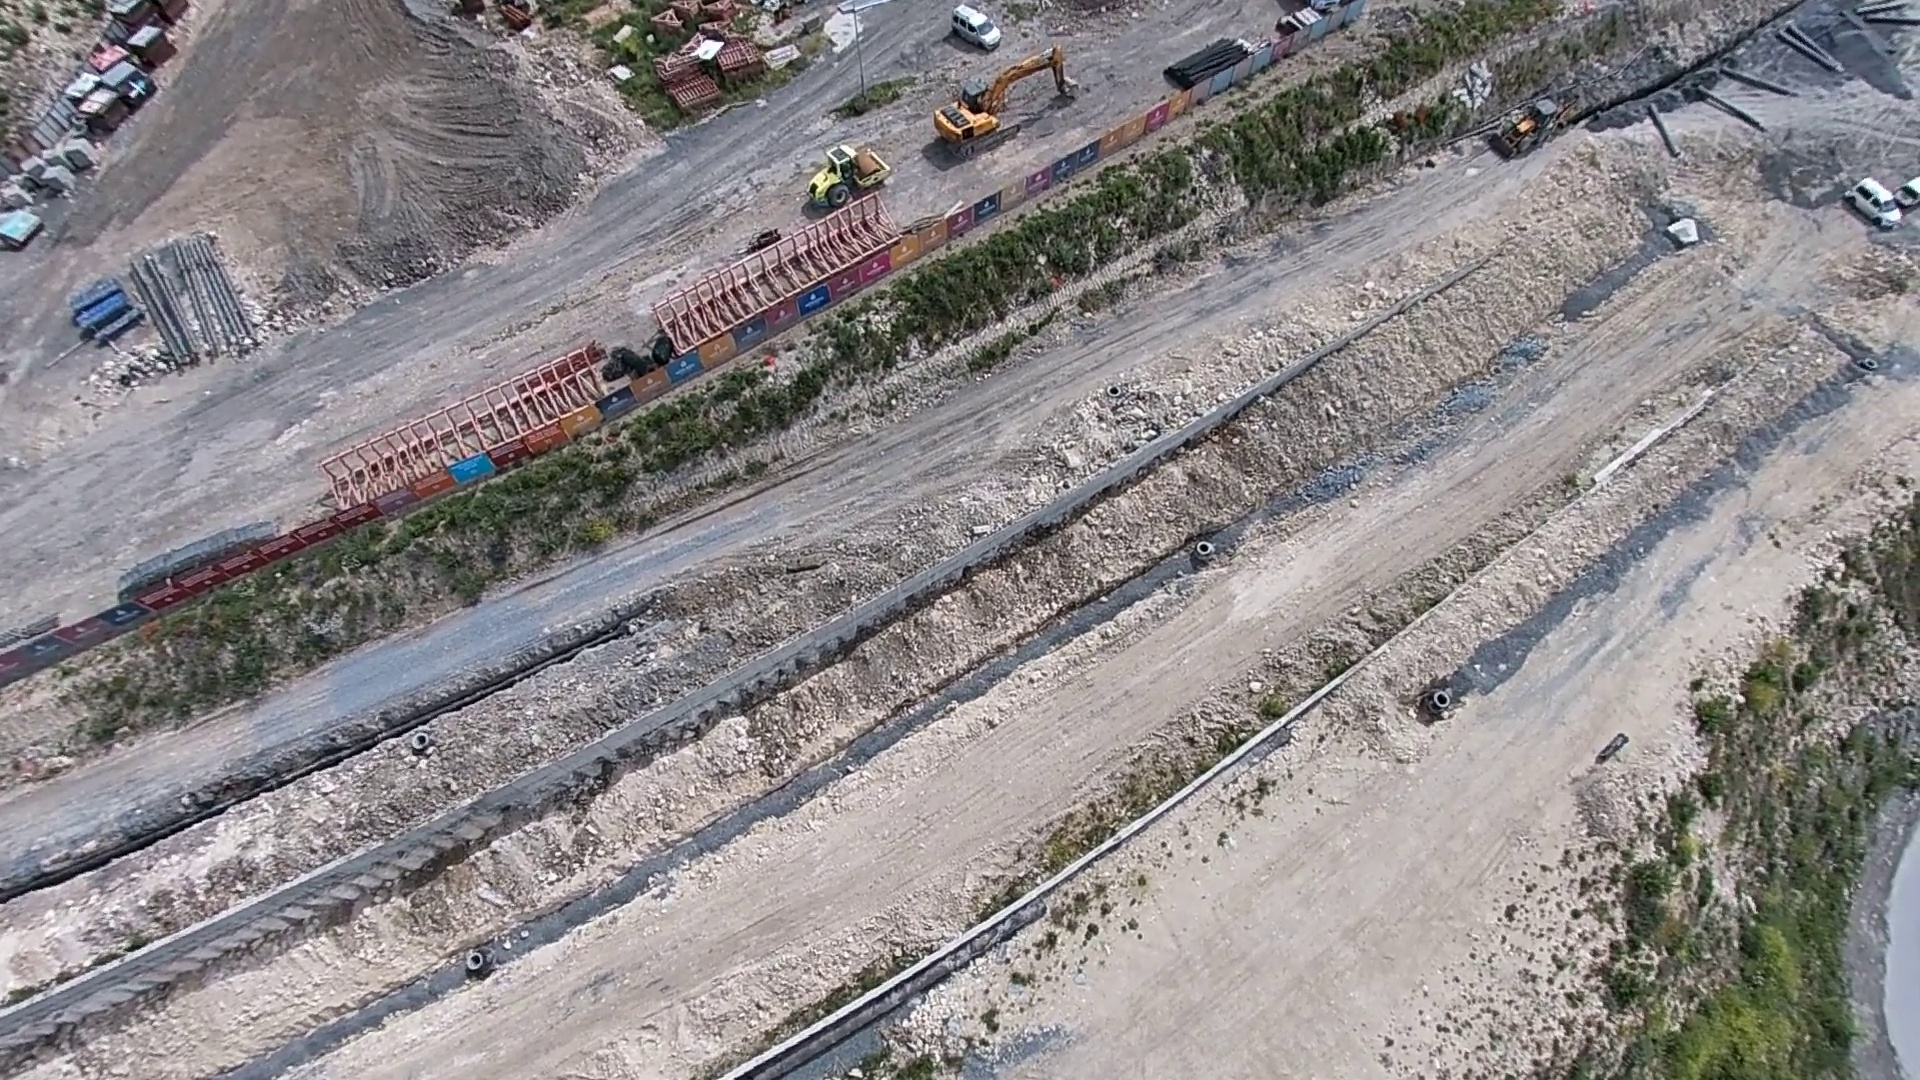arac: (922, 42, 1084, 154), (800, 138, 895, 216), (1491, 96, 1571, 164), (1844, 173, 1903, 233), (947, 3, 1007, 58), (1892, 179, 1920, 210)
